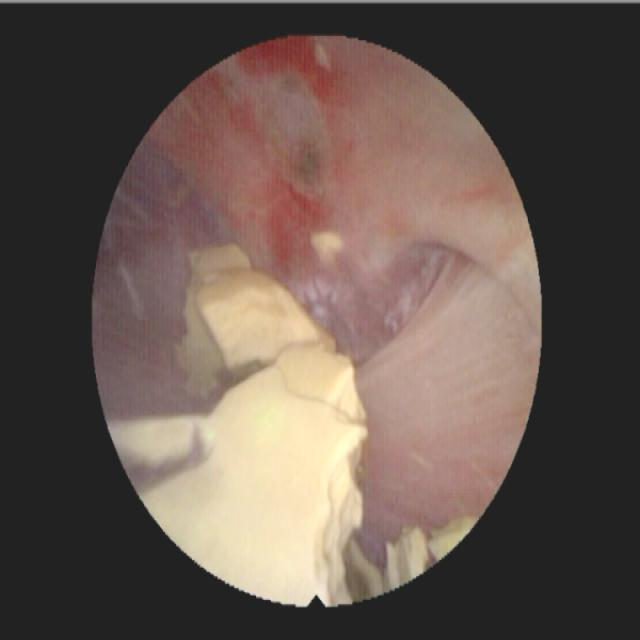stone: (109, 241, 472, 599), (310, 232, 343, 268)
